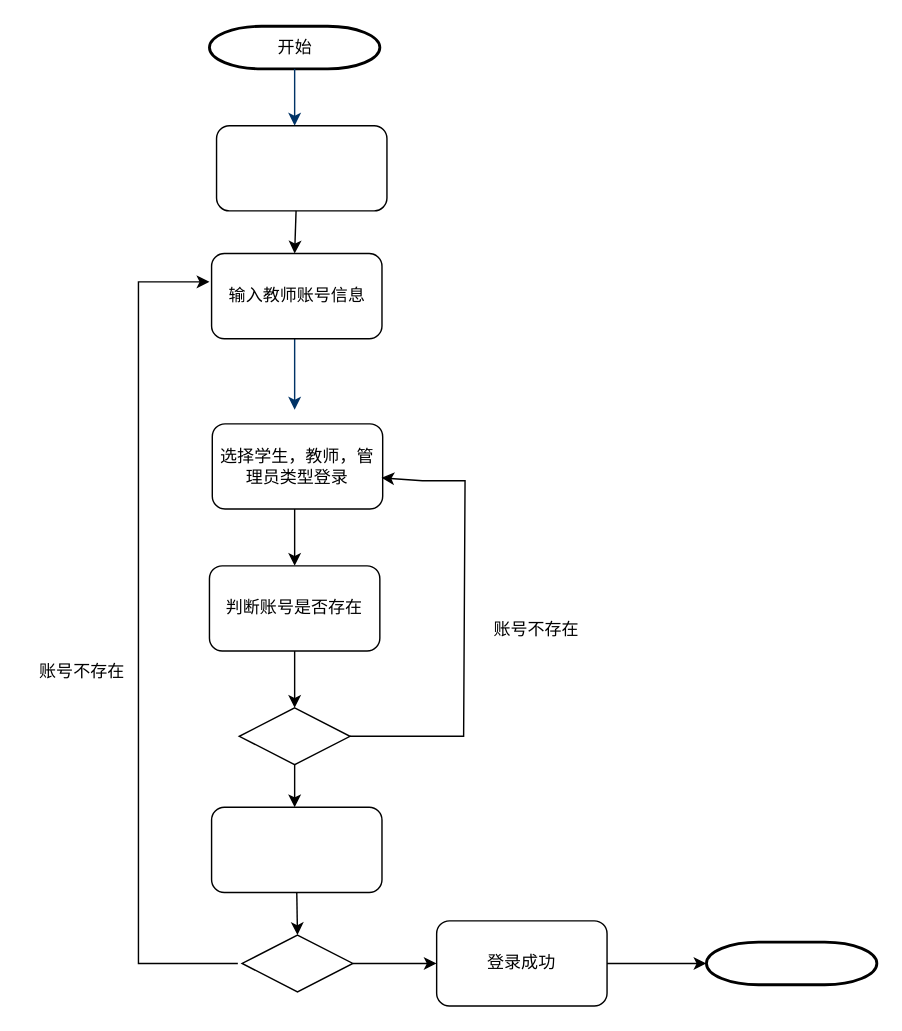
Some shapes in this 902 by 1031 pixel diagram are drawn without their labels. Here are the shapes that lost their labels. From the top down, the centre of each, then its label:
At point 301,167: "进入登录界面".
At point 296,849: "判断密码是否正确".
At point 791,962: "结束".
